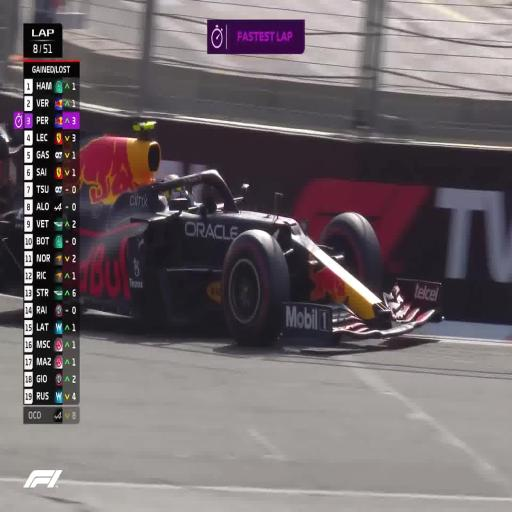f1_car: (78, 137, 442, 345), (0, 208, 22, 282), (138, 124, 144, 128), (49, 262, 52, 268)
